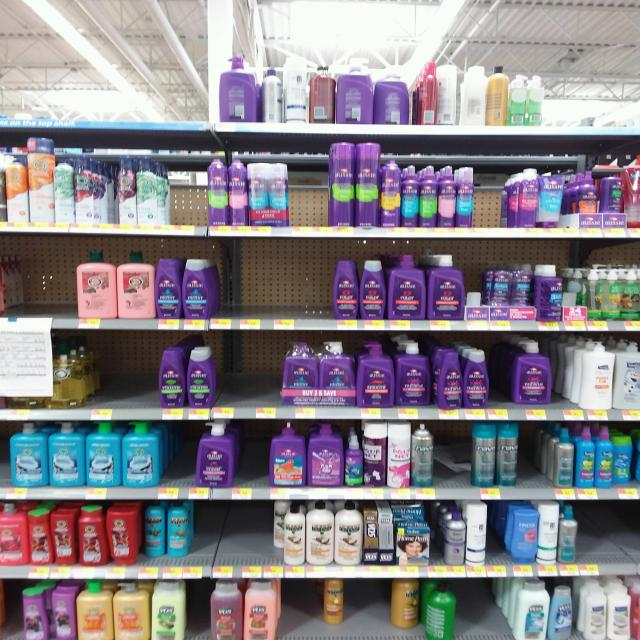void: (0, 46, 207, 121), (222, 242, 332, 315), (548, 67, 640, 126), (196, 504, 274, 564), (219, 339, 281, 407), (94, 338, 153, 406), (12, 250, 72, 316), (585, 503, 640, 563), (290, 139, 326, 228), (462, 581, 509, 640), (170, 148, 200, 226), (348, 582, 389, 636), (284, 580, 321, 637), (479, 158, 507, 230), (521, 424, 552, 489), (238, 421, 268, 484), (164, 425, 193, 487), (442, 422, 467, 488)
